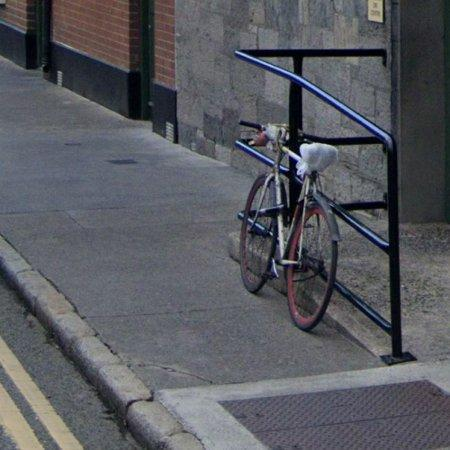bicycles: (236, 121, 340, 330)
